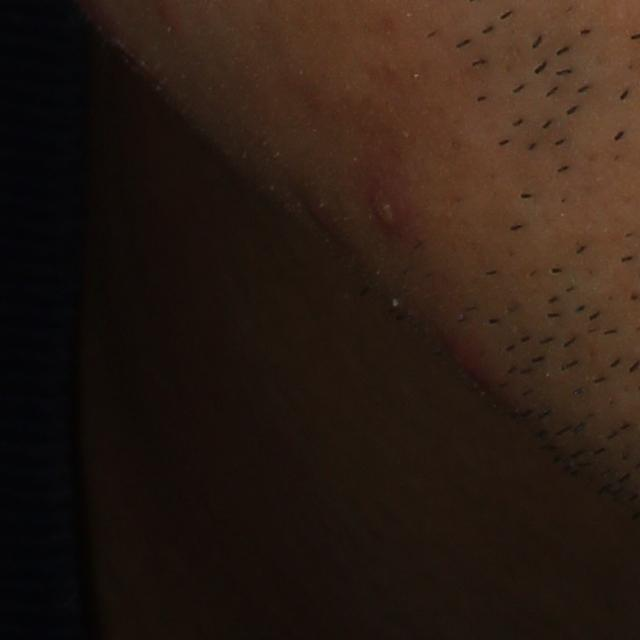pustule: (368, 183, 401, 235)
